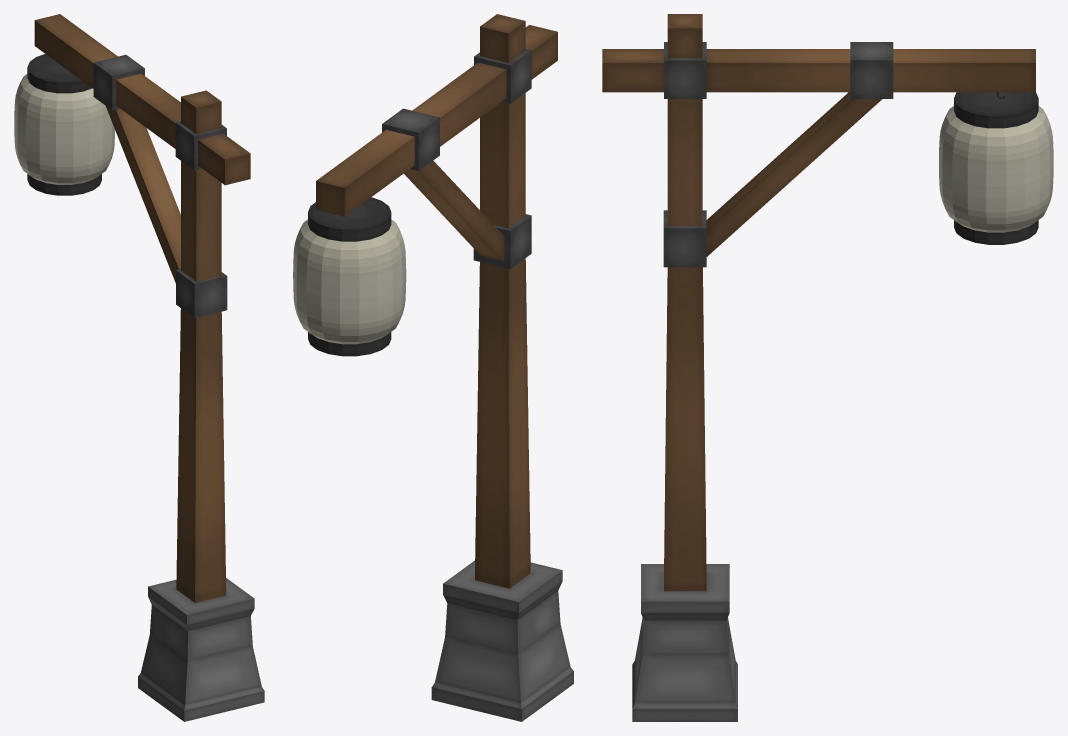
File: lantern_pole_with_a_paper_lantern-980f1887.glb
3 views of the same model, side by side, from view 1: azimuth 30°, elevation 25°; view 2: azimuth 150°, elevation 25°; view 3: azimuth 270°, elevation 25° (orthographic). The views are drawn at different scales.
Visible parts, largest first — view 1: lantern pole_lantern pole_0, lantern paper_lantern paper_0; view 2: lantern pole_lantern pole_0, lantern paper_lantern paper_0; view 3: lantern pole_lantern pole_0, lantern paper_lantern paper_0.
Part boxes in pixels (bbox=[...]): lantern pole_lantern pole_0: bbox=[34, 14, 264, 721]; lantern paper_lantern paper_0: bbox=[14, 54, 114, 195]; lantern pole_lantern pole_0: bbox=[316, 14, 573, 721]; lantern paper_lantern paper_0: bbox=[293, 197, 406, 356]; lantern pole_lantern pole_0: bbox=[602, 14, 1035, 721]; lantern paper_lantern paper_0: bbox=[939, 92, 1053, 244].
Size of the model in its own units: 1.58 by 10.42 by 6.28.
2 materials, 2 textured.
